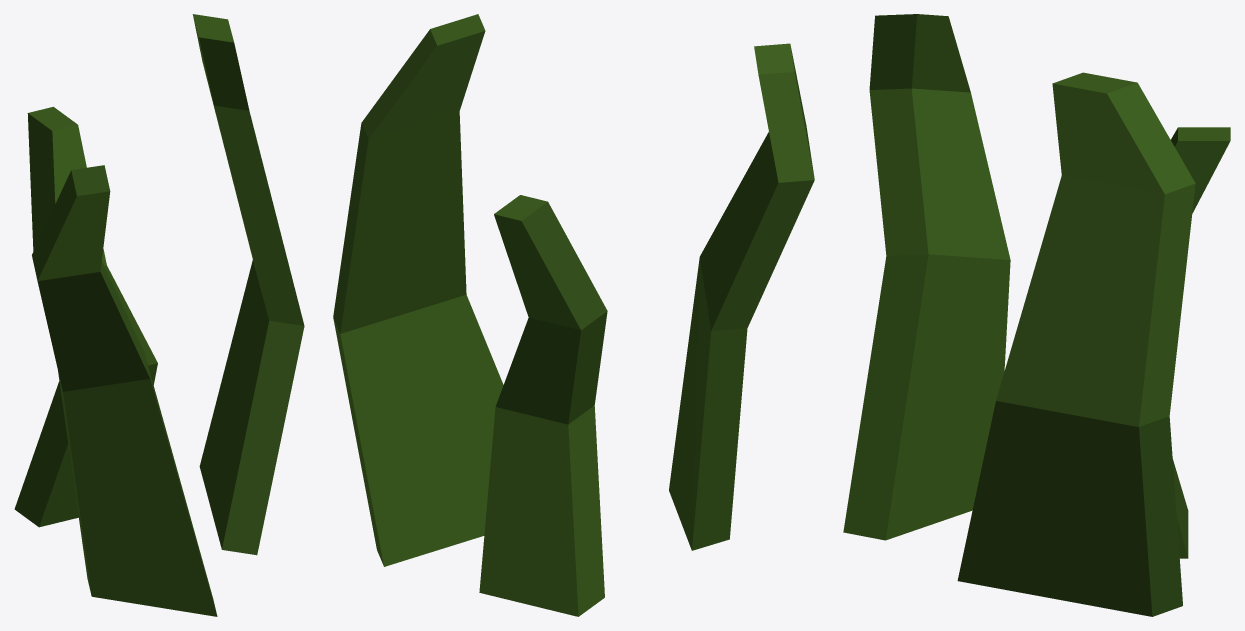
File: Seaweed_Short_01.fbx
The picture shows the model from 3 angles, left to right: view 1: azimuth 30°, elevation 25°; view 2: azimuth 150°, elevation 25°; view 3: azimuth 270°, elevation 25°; orthographic projection. The views are drawn at different scales.
Parts seen in each view (by area): view 1: Model; view 2: Model; view 3: Model.
Boxes of the visible parts, <box> form: Model: <box>14,14,304,616</box>; Model: <box>333,14,814,616</box>; Model: <box>843,14,1230,616</box>.
Size of the model in its own units: 113 by 147 by 101.
